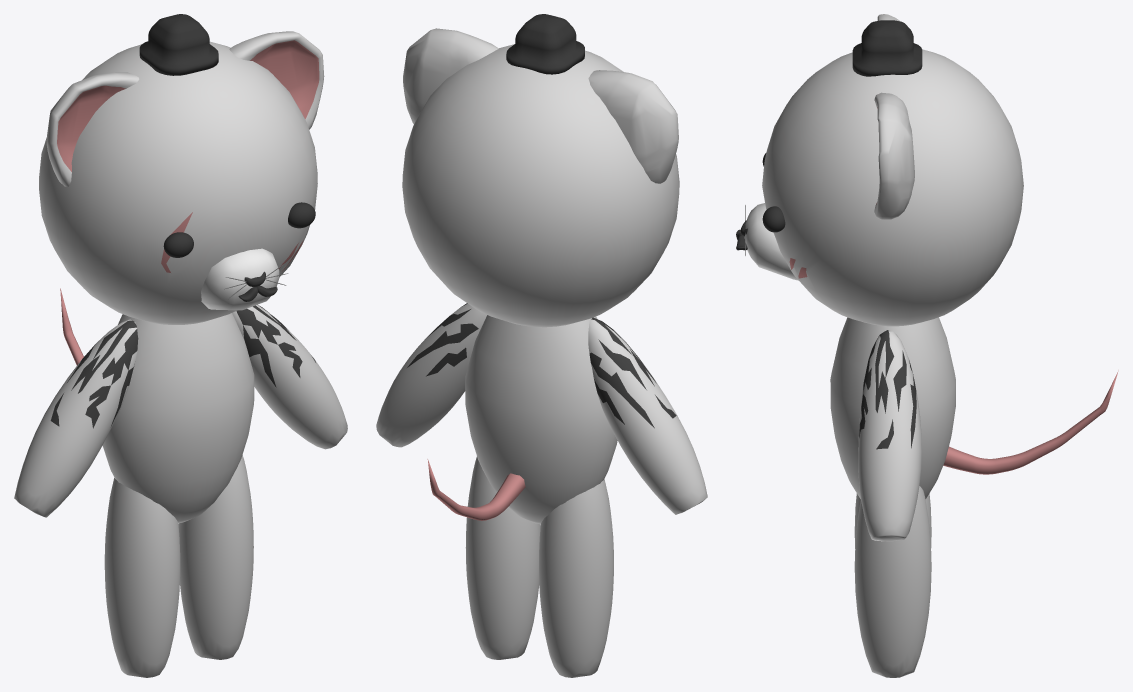
The model's file is rat.glb.
3 views of the same model, side by side, from view 1: azimuth 30°, elevation 25°; view 2: azimuth 150°, elevation 25°; view 3: azimuth 270°, elevation 25° (orthographic). The views are drawn at different scales.
Parts seen in each view (by area): view 1: Sphere.007, Sphere, Sphere.003, Sphere.001, Sphere.004, Sphere.008, Cube.001, Cube, Cube.012, Cube.002, Sphere.005, Sphere.006 (+1 smaller); view 2: Sphere.007, Sphere, Sphere.003, Sphere.001, Sphere.004, Sphere.008, Cube, Cube.001, Cube.012, Cube.003; view 3: Sphere.007, Sphere.008, Sphere, Sphere.004, Cube.001, Cube.012, Cube.003, Cube.002.
Part boxes in pixels (x1,y1,x2,y2): Sphere.007: (39,41,317,324); Sphere: (102,313,254,523); Sphere.003: (104,478,180,677); Sphere.001: (14,319,138,517); Sphere.004: (178,455,253,659); Sphere.008: (232,304,347,449); Cube.001: (229,31,324,129); Cube: (46,72,139,186); Cube.012: (139,14,218,75); Cube.002: (201,248,279,310); Sphere.005: (163,232,193,257); Sphere.006: (288,202,315,228); Sphere.007: (402,44,679,327); Sphere: (465,315,617,524); Sphere.003: (539,479,613,677); Sphere.001: (588,317,707,514); Sphere.004: (465,457,540,659); Sphere.008: (376,303,486,447); Cube: (588,70,678,183); Cube.001: (403,28,498,124); Cube.012: (506,14,584,74); Cube.003: (427,459,525,520); Sphere.007: (762,49,1023,326); Sphere.008: (858,330,921,541); Sphere: (830,317,955,498); Sphere.004: (854,486,931,677); Cube.001: (874,92,914,219); Cube.012: (852,20,922,76); Cube.003: (943,370,1118,474); Cube.002: (744,203,798,280).
Bounding box in the file's own units: 1.51 × 2.85 × 1.58.
